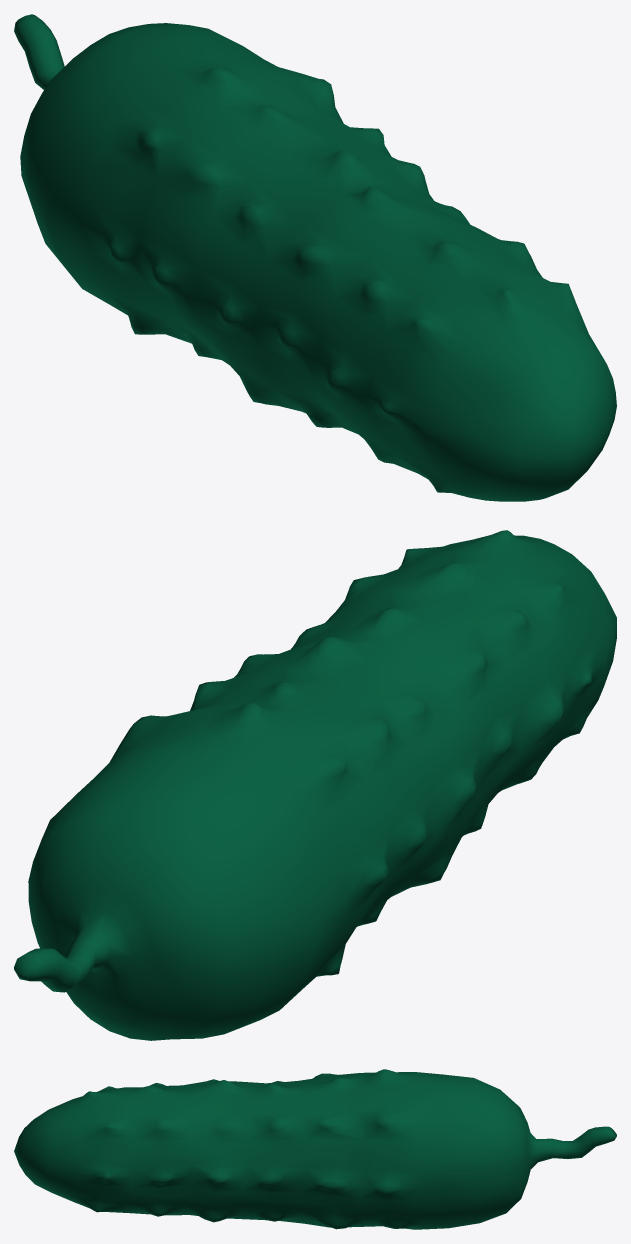
The model's file is cucumber.FBX.
The picture shows the model from 3 angles, top to bottom: view 1: azimuth 30°, elevation 25°; view 2: azimuth 150°, elevation 25°; view 3: azimuth 270°, elevation 25°; orthographic projection. The views are drawn at different scales.
Parts seen in each view (by area): view 1: cucumber; view 2: cucumber; view 3: cucumber.
Part boxes in pixels (bbox=[...]): cucumber: bbox=[14, 14, 616, 501]; cucumber: bbox=[14, 530, 616, 1040]; cucumber: bbox=[14, 1069, 616, 1229].
Size of the model in its own units: 5.43 by 5.43 by 19.18.
